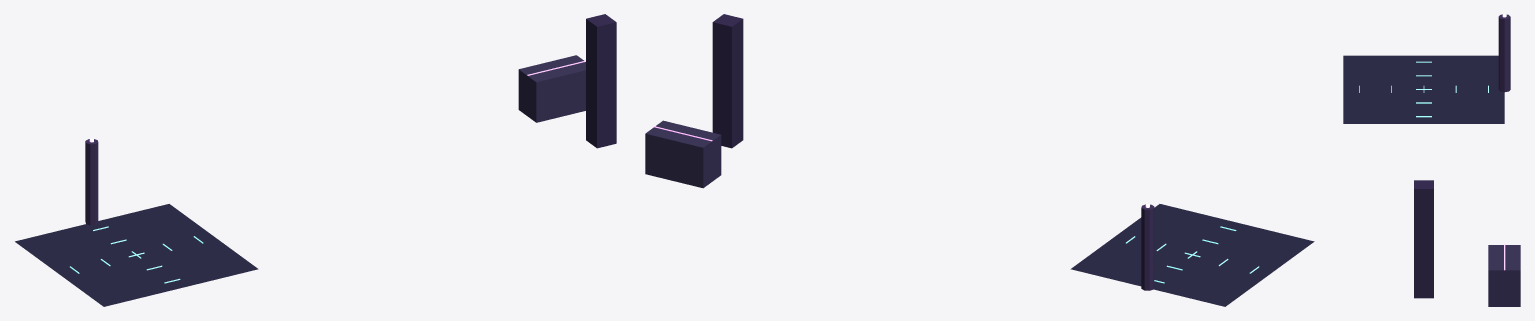
The model's file is environment.glb.
3 renders of one model, left to right at view 1: azimuth 30°, elevation 25°; view 2: azimuth 150°, elevation 25°; view 3: azimuth 270°, elevation 25°, orthographic. The views are drawn at different scales.
Parts seen in each view (by area): view 1: Arena_Tile, Bldg_Tall, Bldg_Wide, Neon_Pillar; view 2: Arena_Tile, Bldg_Wide, Bldg_Tall, Neon_Pillar; view 3: Arena_Tile, Bldg_Tall, Bldg_Wide, Neon_Pillar.
Part boxes in pixels (<box>): Arena_Tile: <box>15,204,258,306</box>; Bldg_Tall: <box>586,14,616,148</box>; Bldg_Wide: <box>518,55,585,122</box>; Neon_Pillar: <box>85,139,98,225</box>; Arena_Tile: <box>1070,204,1314,306</box>; Bldg_Wide: <box>645,120,721,188</box>; Bldg_Tall: <box>712,14,743,148</box>; Neon_Pillar: <box>1141,204,1154,290</box>; Arena_Tile: <box>1343,55,1504,123</box>; Bldg_Tall: <box>1414,180,1433,298</box>; Bldg_Wide: <box>1488,245,1520,306</box>; Neon_Pillar: <box>1498,14,1510,92</box>.
Bounding box in the file's own units: 14.75 × 3.05 × 4.4.
